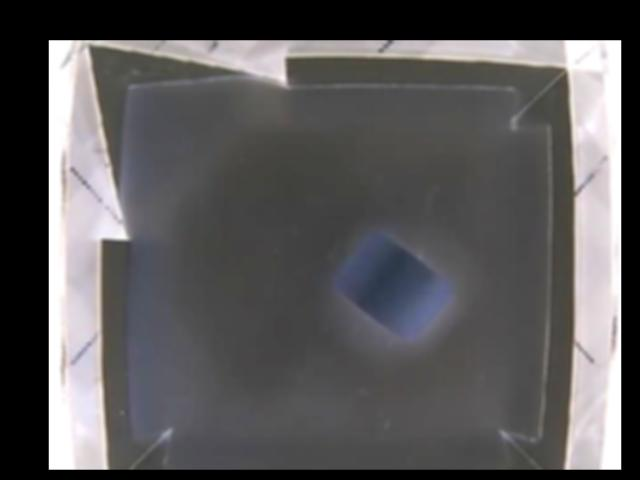Mooli: (338, 234, 455, 341)
